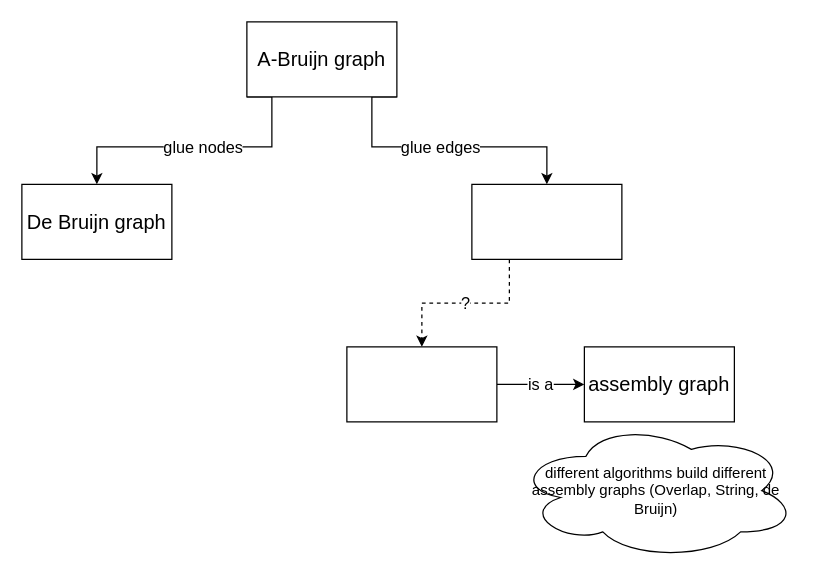
Some shapes in this 819 by 581 pixel diagram are drawn without their labels. The centre of each missing label's shape, as x and y in pixels:
"breakpoint graph" goes at [546,221].
"repeat graph" goes at [421,384].
